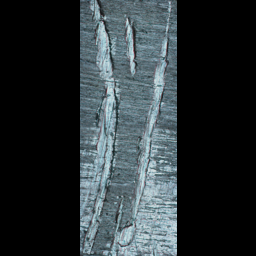d: (102, 1, 175, 255), (79, 0, 119, 255), (121, 15, 139, 78)
